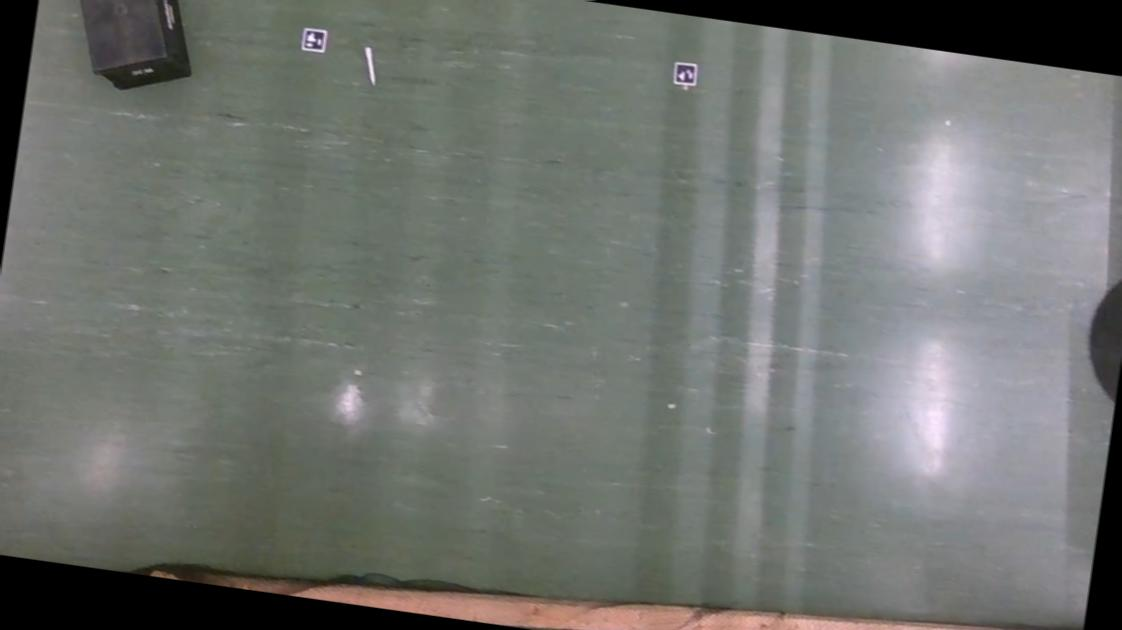probes: (362, 47, 378, 84)
rako: (57, 0, 207, 100)
